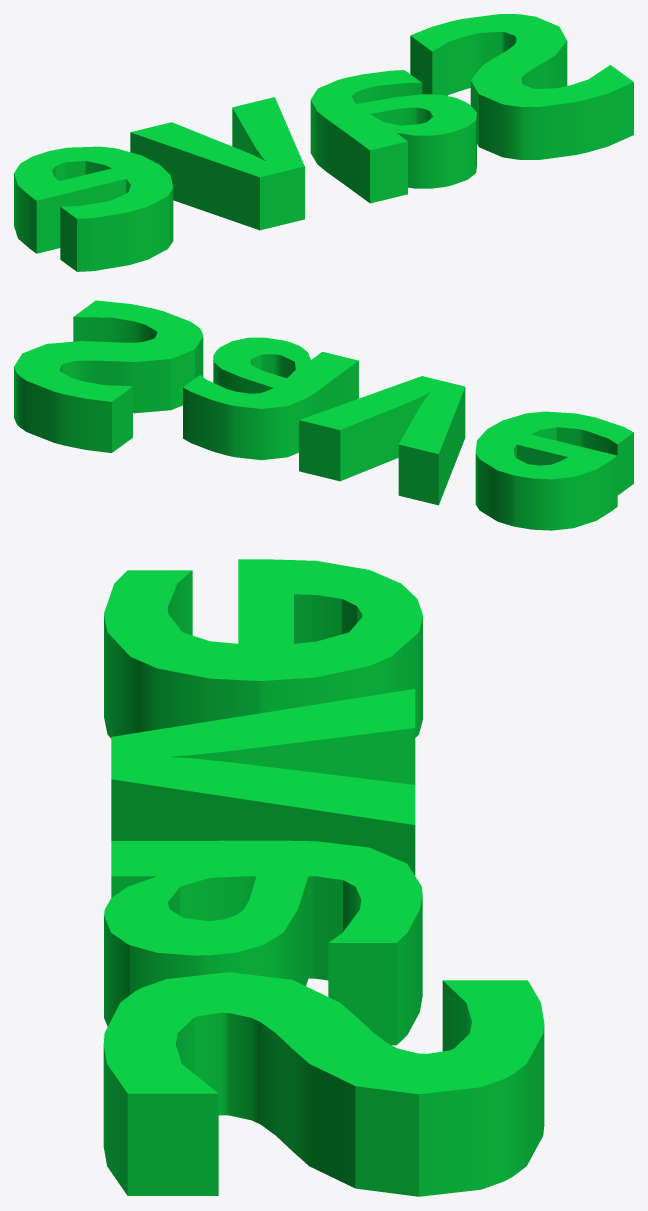
File: Save.fbx
The picture shows the model from 3 angles, top to bottom: view 1: azimuth 30°, elevation 25°; view 2: azimuth 150°, elevation 25°; view 3: azimuth 270°, elevation 25°; orthographic projection. The views are drawn at different scales.
Parts seen in each view (by area): view 1: polySurface23; view 2: polySurface23; view 3: polySurface23.
Boxes of the visible parts, bbox=[...] form: polySurface23: bbox=[14, 14, 633, 271]; polySurface23: bbox=[14, 300, 633, 530]; polySurface23: bbox=[103, 559, 544, 1196].
Size of the model in its own units: 66.92 by 6.06 by 23.21.
